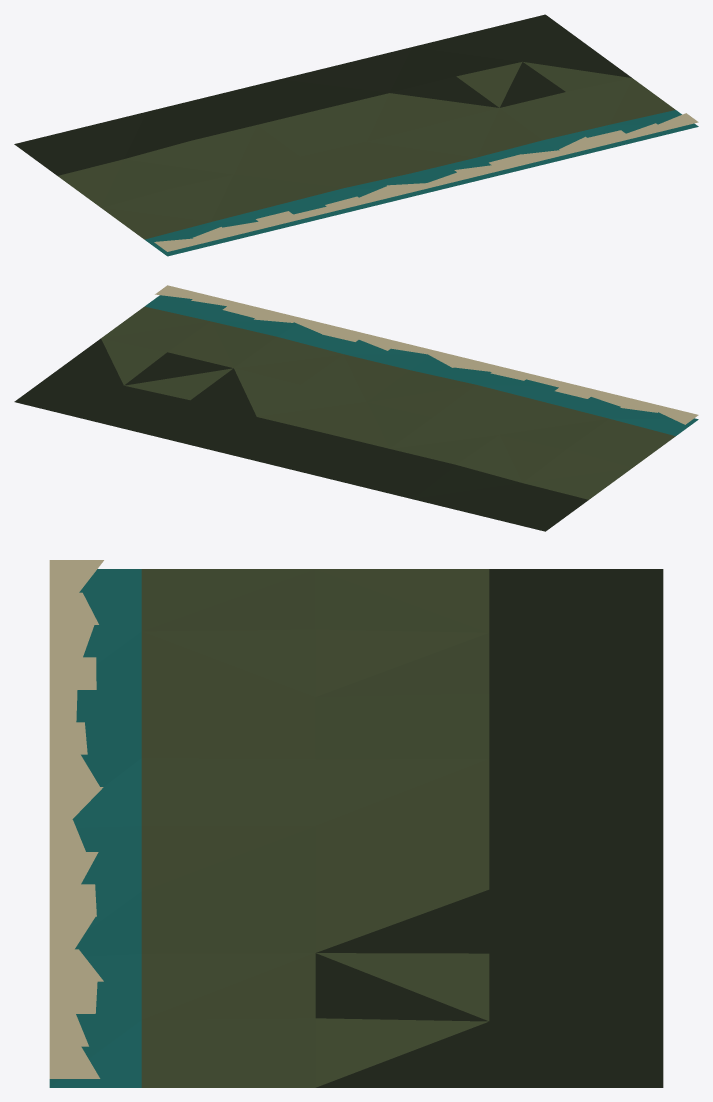
Rendered from drowned_water_shore.glb.
3 views of the same model, one above another, from view 1: azimuth 30°, elevation 25°; view 2: azimuth 150°, elevation 25°; view 3: azimuth 270°, elevation 25° (orthographic). The views are drawn at different scales.
Parts seen in each view (by area): view 1: drowned_water_shore; view 2: drowned_water_shore; view 3: drowned_water_shore.
Boxes of the visible parts, x1=… form: drowned_water_shore: x1=14, y1=14, x2=698, y2=256; drowned_water_shore: x1=14, y1=285, x2=698, y2=531; drowned_water_shore: x1=49, y1=560, x2=663, y2=1087.
Bounding box in the file's own units: 4 × 0.032 × 2.
